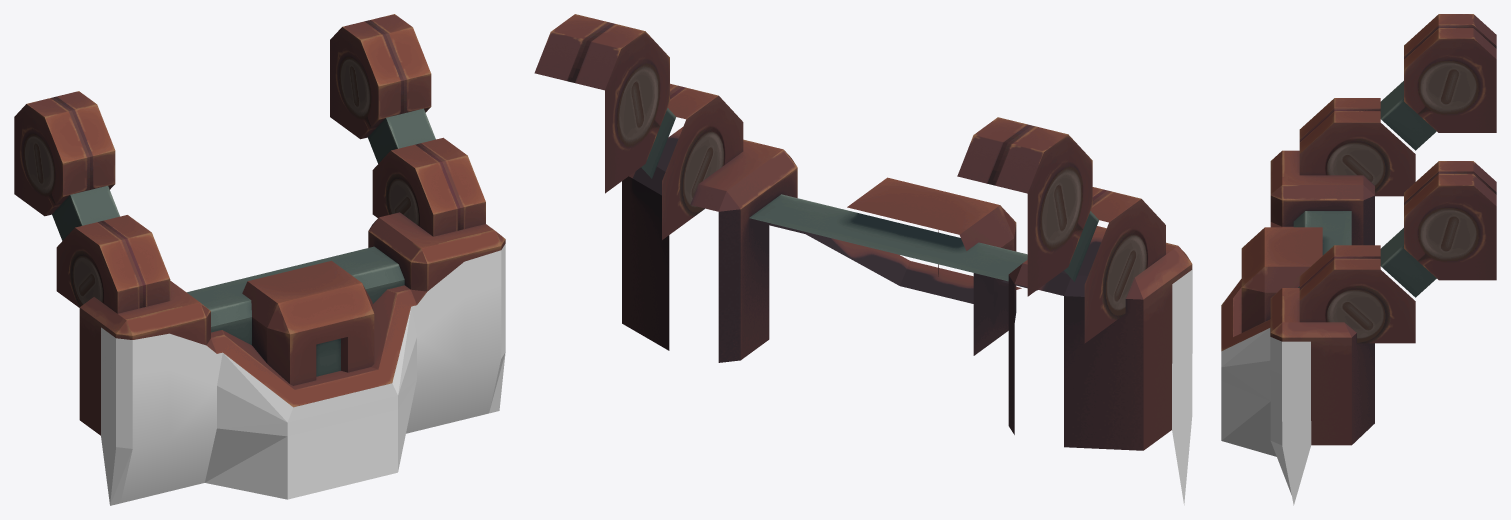
The model's file is entranceway_southwall.glb.
3 renders of one model, left to right at view 1: azimuth 30°, elevation 25°; view 2: azimuth 150°, elevation 25°; view 3: azimuth 270°, elevation 25°, orthographic. The views are drawn at different scales.
Visible parts, largest first — view 1: arcade.entranceway_southwall-Mesh[1], arcade.entranceway_southwall-Mesh[0]; view 2: arcade.entranceway_southwall-Mesh[1], arcade.entranceway_southwall-Mesh[0]; view 3: arcade.entranceway_southwall-Mesh[1], arcade.entranceway_southwall-Mesh[0].
Part boxes in pixels (x1,y1,x2,y2): arcade.entranceway_southwall-Mesh[1]: (14, 14, 505, 435); arcade.entranceway_southwall-Mesh[0]: (101, 244, 505, 505); arcade.entranceway_southwall-Mesh[1]: (534, 14, 1192, 450); arcade.entranceway_southwall-Mesh[0]: (1172, 269, 1192, 505); arcade.entranceway_southwall-Mesh[1]: (1221, 14, 1496, 445); arcade.entranceway_southwall-Mesh[0]: (1221, 328, 1311, 505).
Size of the model in its own units: 7.4 by 6 by 4.75.
2 materials, 1 textured.
